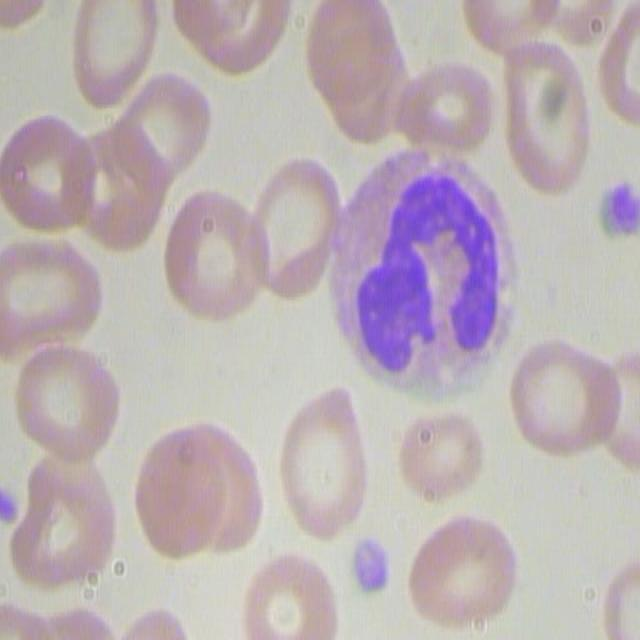RBC: (130, 418, 266, 567), (271, 380, 376, 538), (498, 33, 594, 194), (308, 0, 411, 148), (163, 186, 270, 324), (242, 152, 340, 302), (12, 445, 112, 590), (508, 334, 618, 464), (0, 228, 103, 363), (408, 510, 523, 630), (67, 112, 163, 255), (384, 53, 496, 171), (18, 338, 122, 464), (1, 114, 94, 244), (65, 2, 162, 116), (118, 72, 214, 180), (169, 0, 292, 79), (234, 548, 336, 640), (393, 398, 480, 502), (589, 344, 640, 472), (594, 0, 640, 134), (599, 545, 640, 638)
WBC: (333, 144, 521, 400)
platelets: (346, 533, 392, 601), (599, 176, 640, 243)
